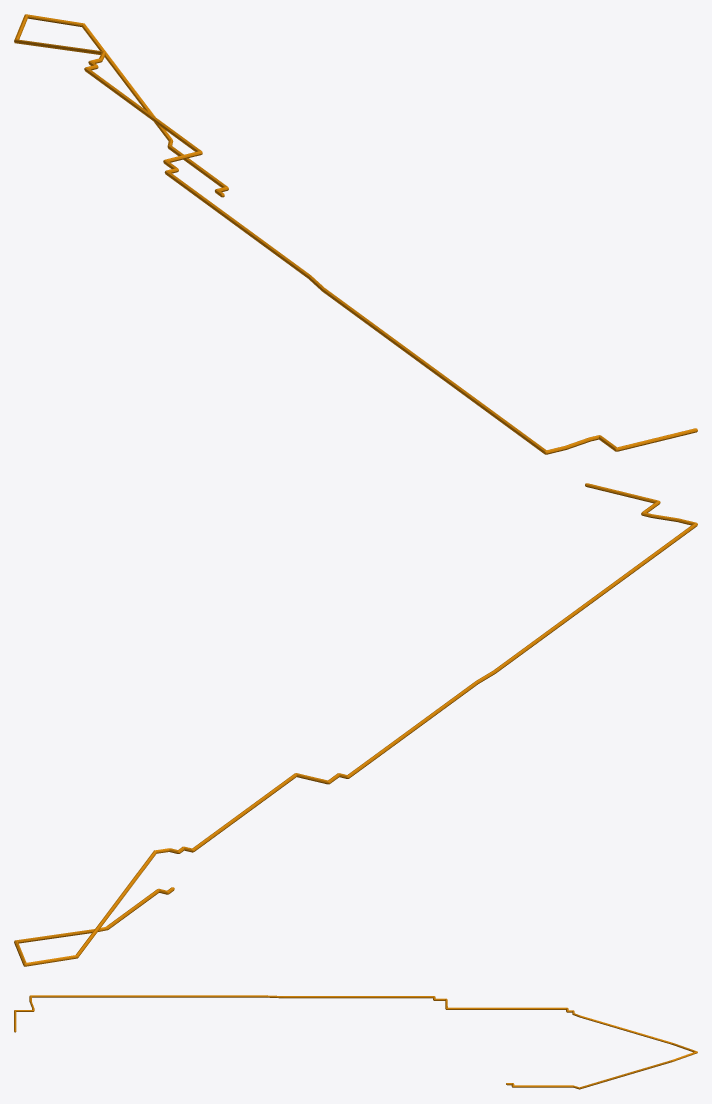
The picture shows the model from 3 angles, top to bottom: view 1: azimuth 30°, elevation 25°; view 2: azimuth 150°, elevation 25°; view 3: azimuth 270°, elevation 25°; orthographic projection. The views are drawn at different scales.
Bounding box in the file's own units: 749 × 520 × 5666.
